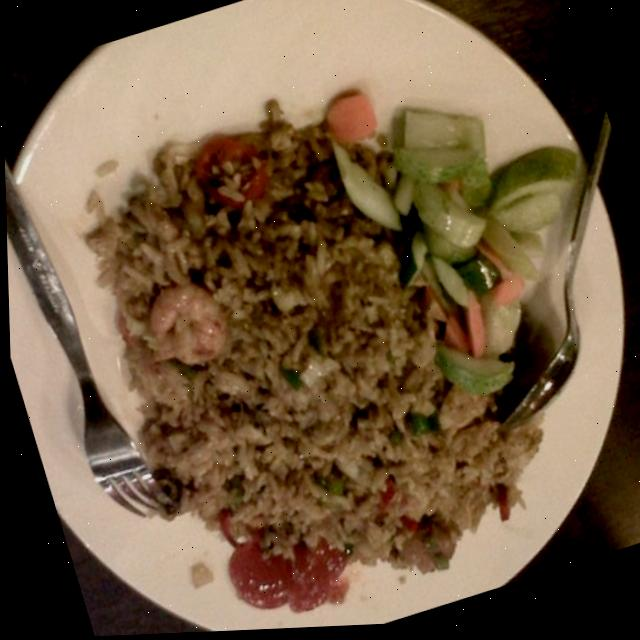米饭主食: (31, 30, 615, 639)
